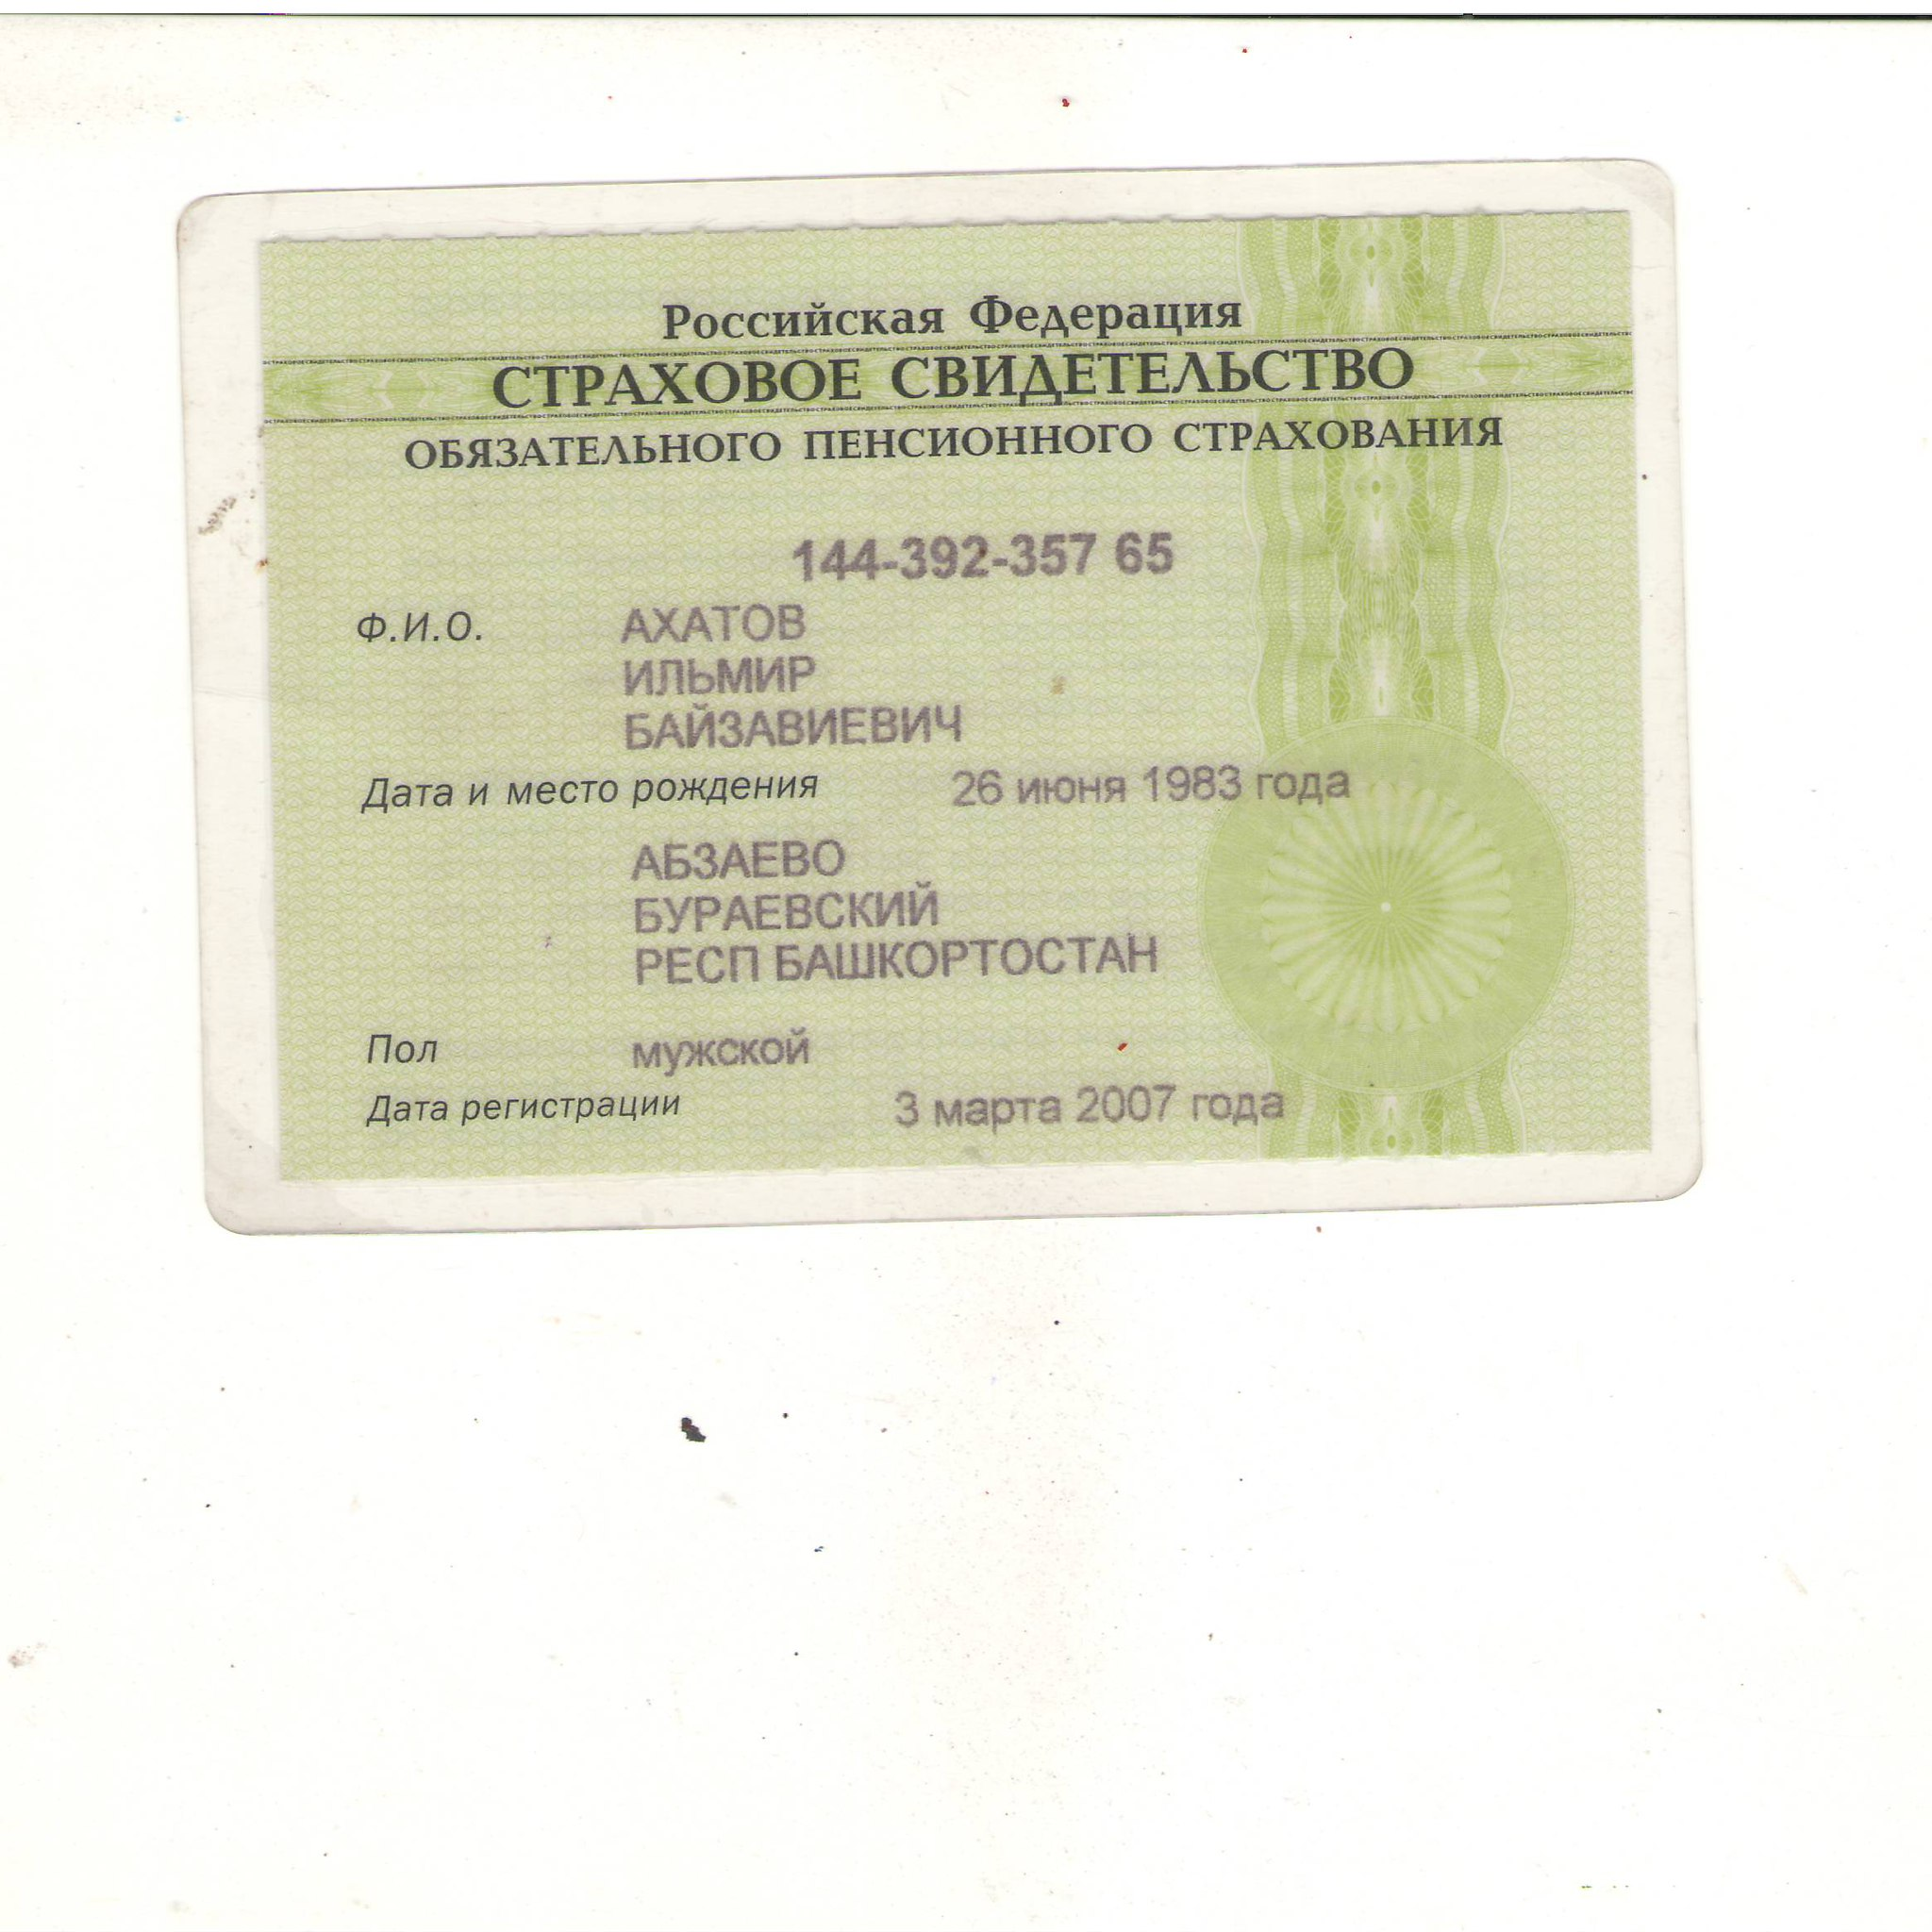text: (626, 934, 1166, 991), (888, 1074, 1299, 1138), (773, 522, 1194, 582), (941, 759, 1359, 819), (603, 699, 984, 754), (625, 883, 955, 936), (617, 826, 862, 883), (625, 1024, 833, 1079), (598, 655, 839, 697), (607, 598, 819, 644)
